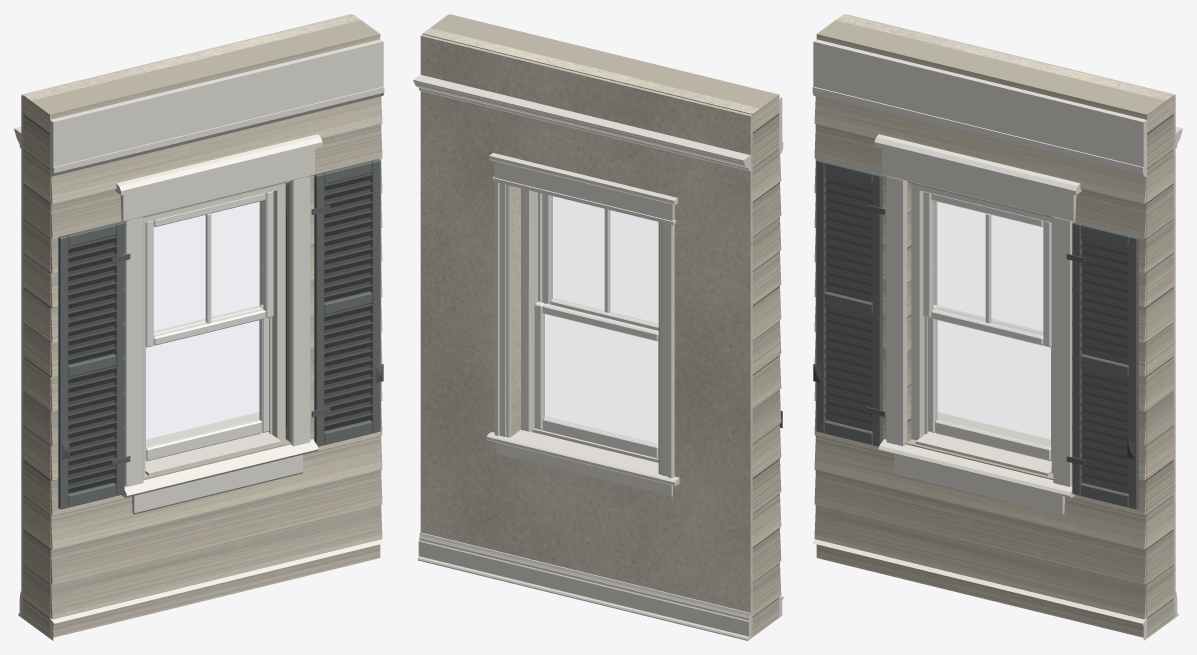
File: h_win1.glb
3 views of the same model, side by side, from view 1: azimuth 30°, elevation 25°; view 2: azimuth 150°, elevation 25°; view 3: azimuth 330°, elevation 25° (orthographic).
Visible parts, largest first — view 1: h_win1_siding, h_win1_trim, h_win1_shutter, folha_glass, h_win1_glass, h_win1_dark, h_win1_frame, h_win1_sash, h_win1_plaster, folha_sash, molduras, h_win1_iron; view 2: h_win1_plaster, molduras, h_win1_siding, folha_glass, h_win1_glass, h_win1_frame, folha_sash, h_win1_sash; view 3: h_win1_siding, h_win1_trim, h_win1_shutter, folha_glass, h_win1_glass, h_win1_dark, h_win1_frame, h_win1_sash, h_win1_plaster, folha_sash, molduras, h_win1_iron.
Boxes of the visible parts, box(x1,y1,x2,y2) form: h_win1_siding: box(23, 20, 382, 638); h_win1_trim: box(50, 39, 384, 640); h_win1_shutter: box(58, 159, 380, 509); folha_glass: box(146, 320, 260, 446); h_win1_glass: box(154, 201, 263, 335); h_win1_dark: box(68, 173, 370, 493); h_win1_frame: box(143, 183, 285, 473); h_win1_sash: box(145, 191, 273, 347); h_win1_plaster: box(21, 14, 360, 618); folha_sash: box(145, 304, 269, 461); molduras: box(14, 126, 260, 617); h_win1_iron: box(61, 205, 383, 465); h_win1_plaster: box(420, 28, 759, 638); molduras: box(413, 74, 750, 640); h_win1_siding: box(422, 14, 781, 636); folha_glass: box(544, 314, 657, 444); h_win1_glass: box(552, 196, 657, 323); h_win1_frame: box(521, 188, 658, 462); folha_sash: box(534, 301, 658, 458); h_win1_sash: box(542, 193, 658, 330); h_win1_siding: box(814, 20, 1173, 638); h_win1_trim: box(812, 39, 1146, 640); h_win1_shutter: box(816, 159, 1138, 509); folha_glass: box(936, 320, 1050, 446); h_win1_glass: box(933, 201, 1042, 335); h_win1_dark: box(826, 173, 1128, 493); h_win1_frame: box(911, 183, 1053, 473); h_win1_sash: box(923, 191, 1051, 347); h_win1_plaster: box(836, 14, 1175, 618); folha_sash: box(927, 304, 1051, 461); molduras: box(936, 126, 1182, 617); h_win1_iron: box(813, 205, 1135, 465).
Size of the model in its own units: 2 by 3.03 by 0.463.
Materials: 9 (2 with a texture image).
